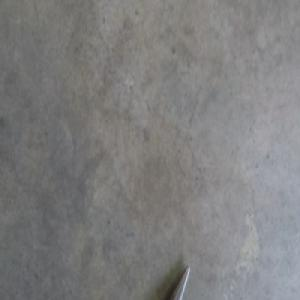Pliers: (171, 265, 189, 299)
